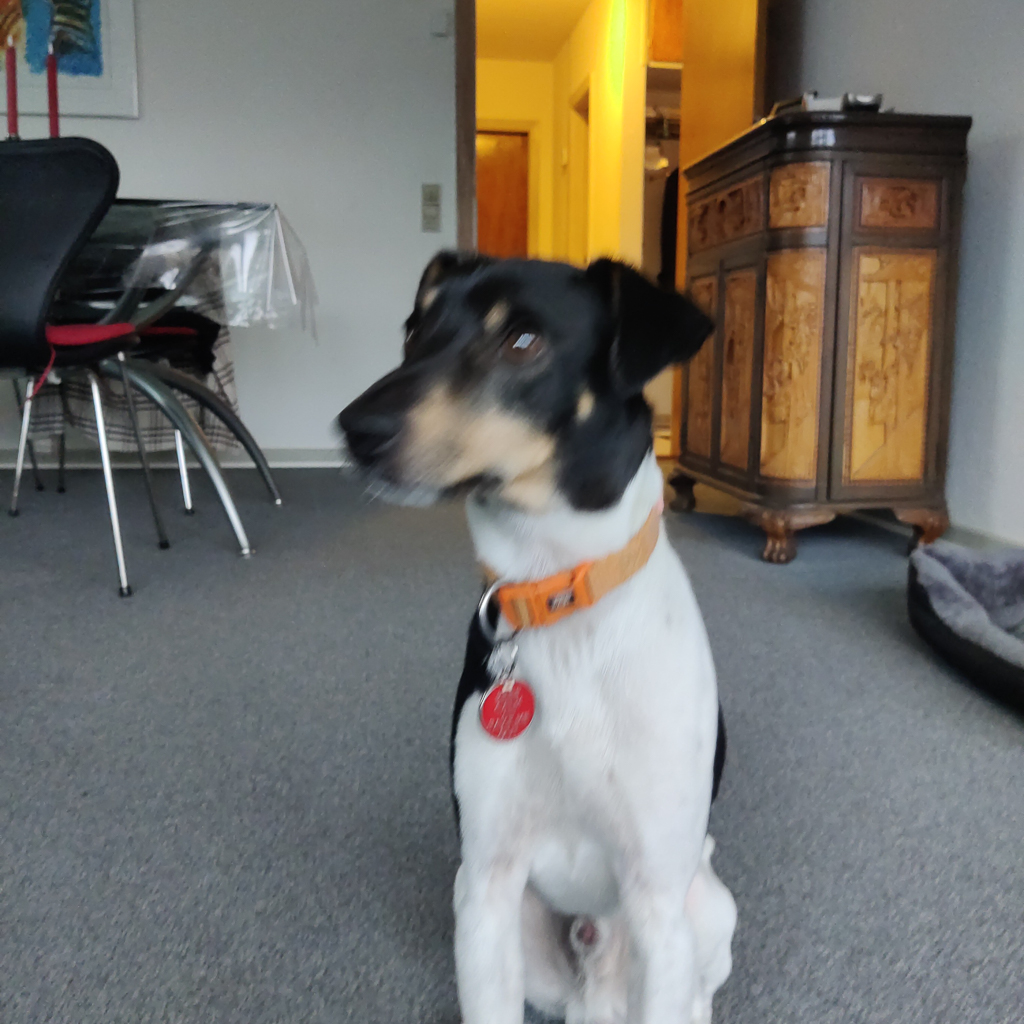Dog: (315, 231, 777, 1024)
